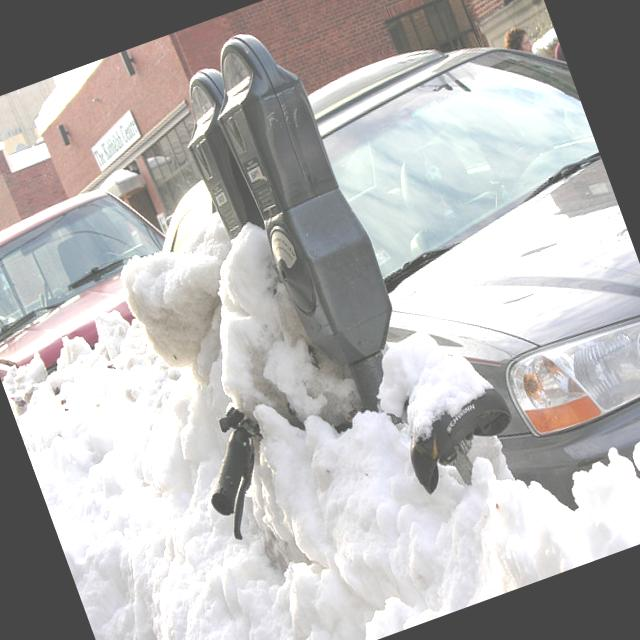Vehicle: (309, 21, 640, 501), (0, 171, 208, 416), (0, 172, 197, 385)
